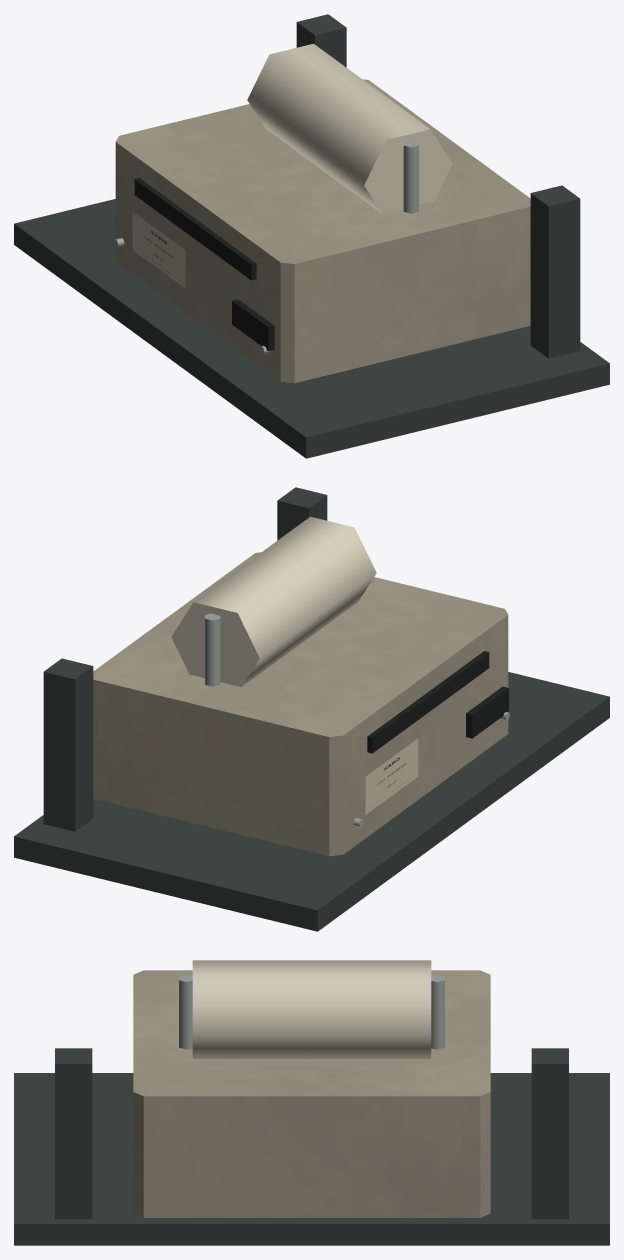
File: SM_ArchiveProps_CallRecorder_LOD2.glb
3 views of the same model, one above another, from view 1: azimuth 30°, elevation 25°; view 2: azimuth 150°, elevation 25°; view 3: azimuth 270°, elevation 25° (orthographic).
Visible parts, largest first — view 1: SM_ArchiveProps_CallRecorder_LOD2; view 2: SM_ArchiveProps_CallRecorder_LOD2; view 3: SM_ArchiveProps_CallRecorder_LOD2.
Boxes of the visible parts, <box> form: SM_ArchiveProps_CallRecorder_LOD2: <box>14,14,609,458</box>; SM_ArchiveProps_CallRecorder_LOD2: <box>14,487,609,931</box>; SM_ArchiveProps_CallRecorder_LOD2: <box>14,960,609,1245</box>.
Bounding box in the file's own units: 0.24 × 0.1613 × 0.4.
6 materials, 2 textured.
